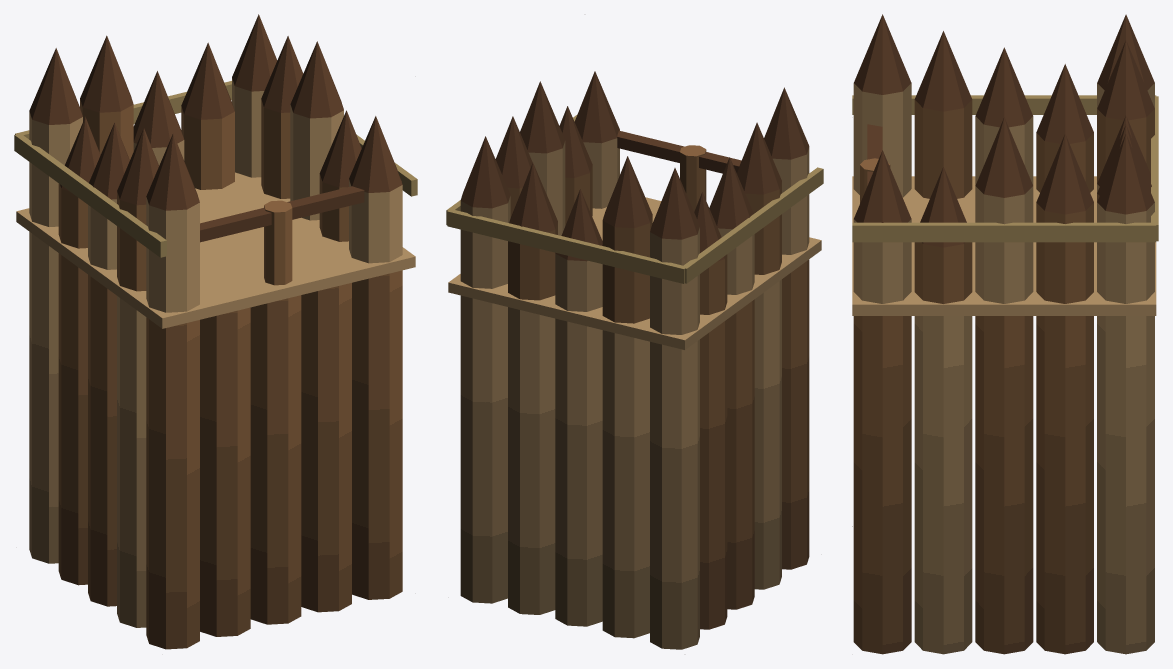
File: perimeter_wall_wood.glb
3 views of the same model, side by side, from view 1: azimuth 30°, elevation 25°; view 2: azimuth 150°, elevation 25°; view 3: azimuth 270°, elevation 25° (orthographic). The views are drawn at different scales.
Bounding box in the file's own units: 2.03 × 3.9 × 2.01.
Materials: 1 (1 with a texture image).
